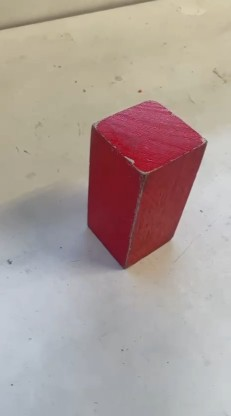red: (85, 92, 205, 265)
